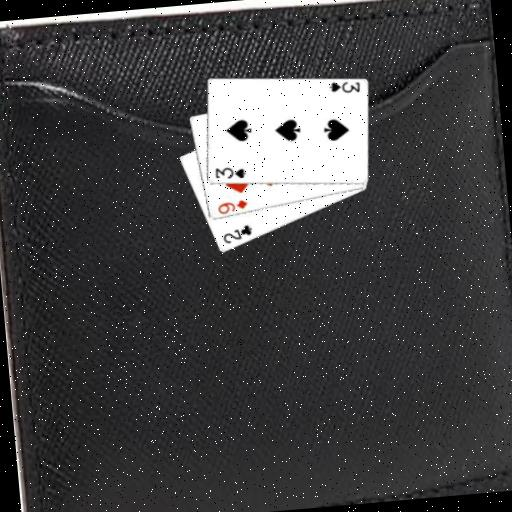2C: (219, 221, 254, 246)
3S: (211, 163, 247, 183), (326, 77, 362, 96)
9D: (214, 196, 249, 216)
